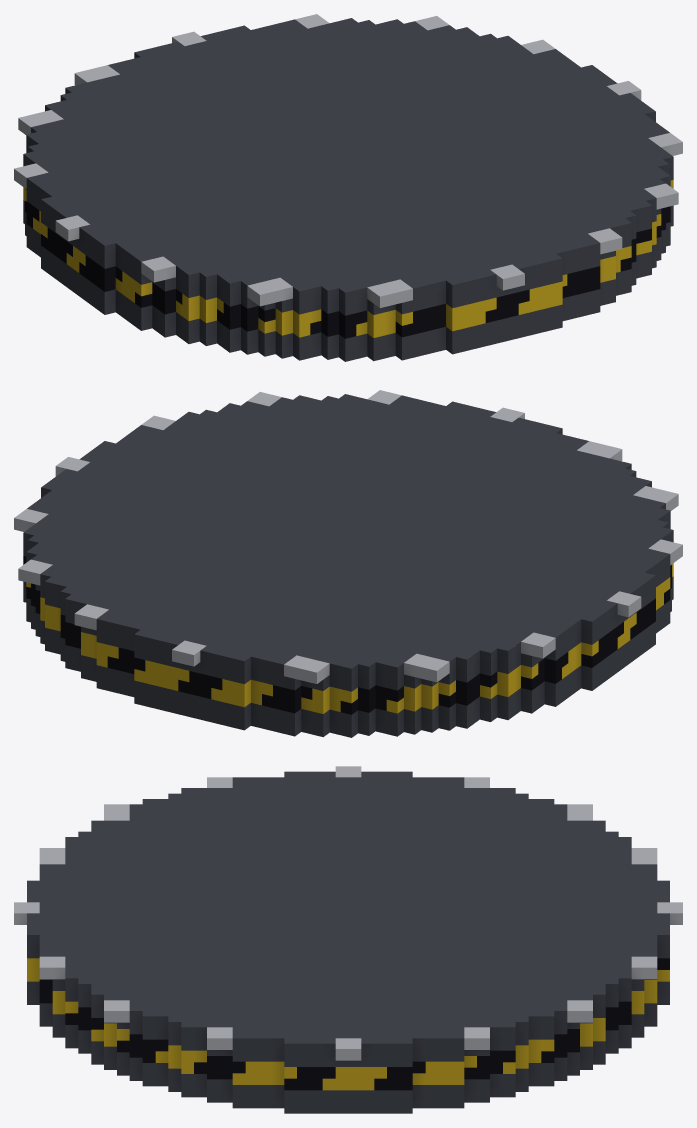
Rendered from decoupler_m.glb.
3 views of the same model, one above another, from view 1: azimuth 30°, elevation 25°; view 2: azimuth 150°, elevation 25°; view 3: azimuth 270°, elevation 25° (orthographic).
Visible parts, largest first — view 1: decoupler_m; view 2: decoupler_m; view 3: decoupler_m.
Boxes of the visible parts, bbox=[...] form: decoupler_m: bbox=[14, 14, 682, 361]; decoupler_m: bbox=[14, 390, 682, 737]; decoupler_m: bbox=[14, 766, 682, 1113].
Bounding box in the file's own units: 2.6 × 0.3 × 2.6.
